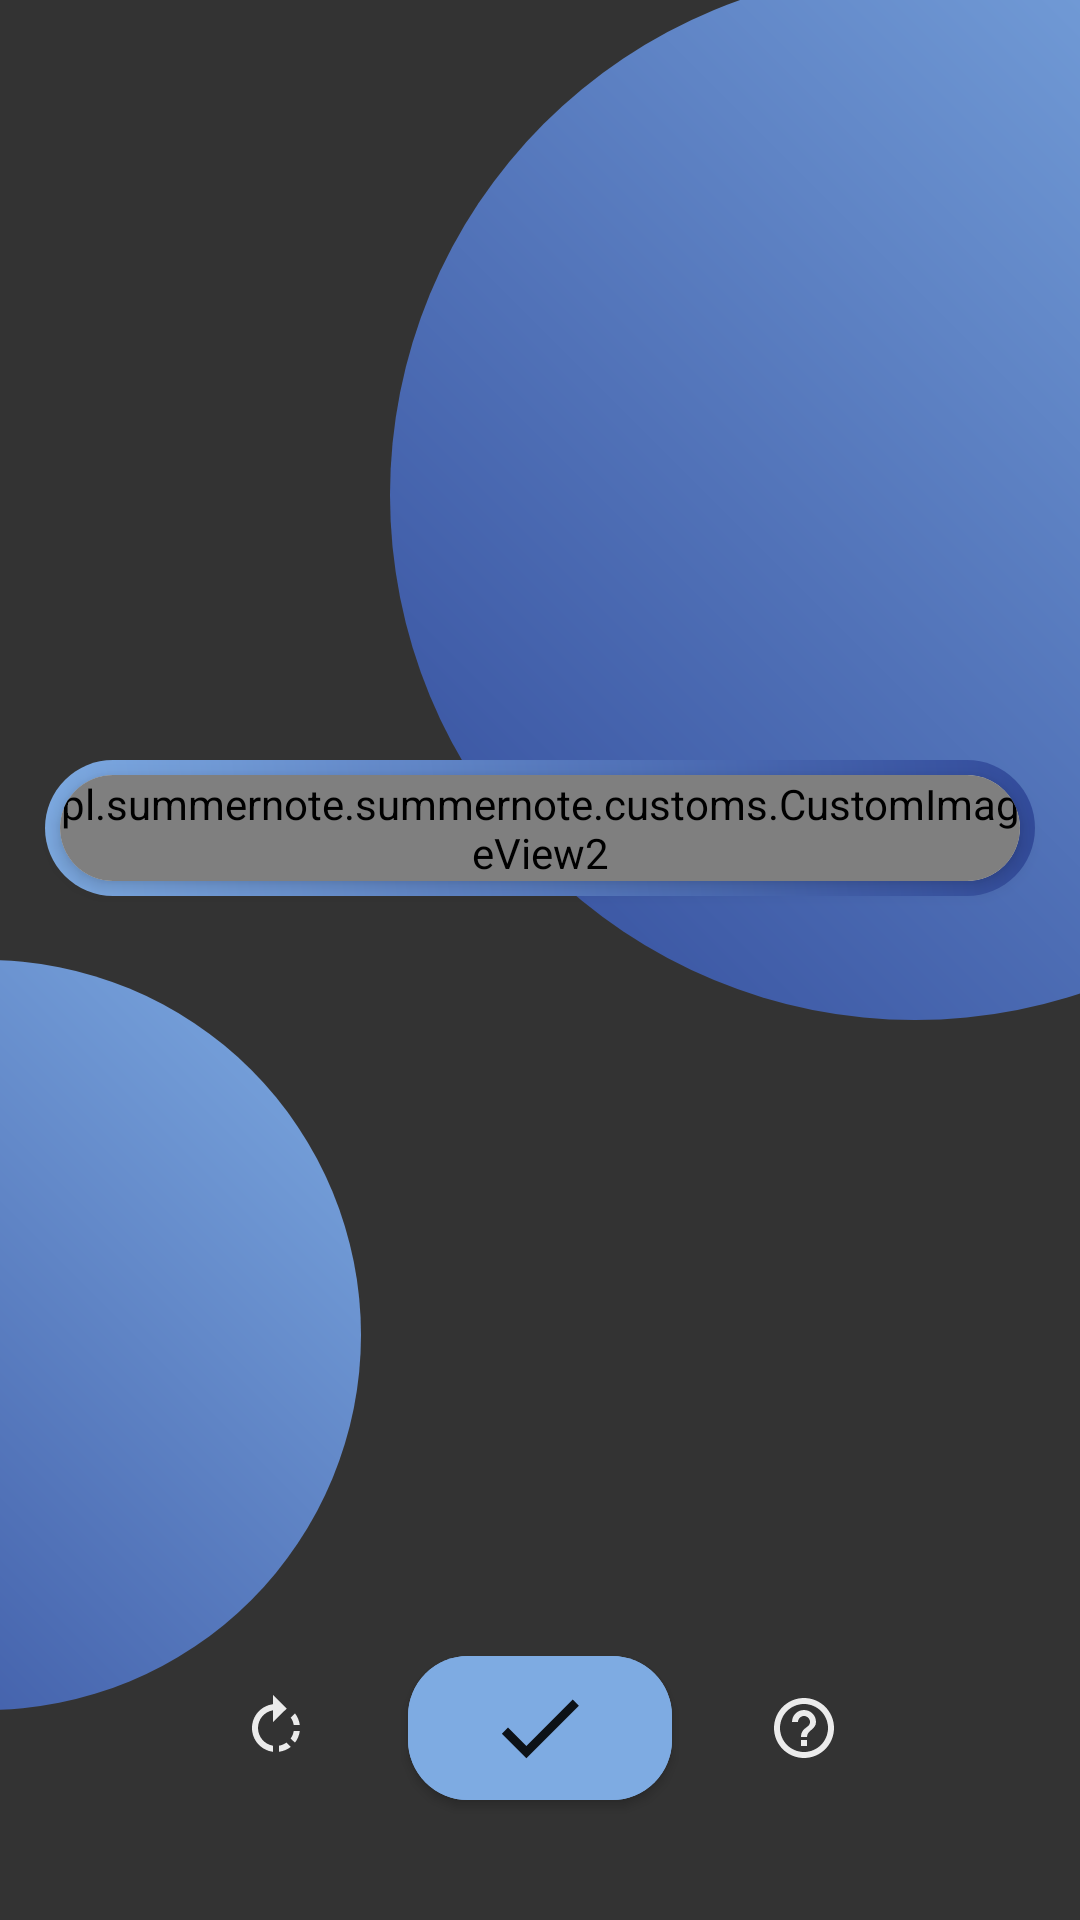

Icons on this 1080 x 1920 Android screen, each with the point to tap as (x=x, y=y):
done: (x=540, y=1728)
help: (x=804, y=1728)
rotate right: (x=276, y=1723)
